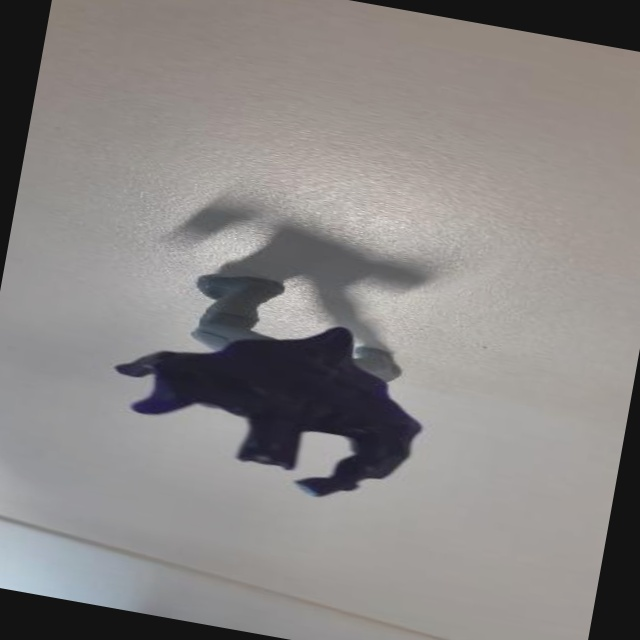Batman: (85, 254, 463, 518)
